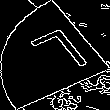L_SE: (18, 25, 92, 85)
